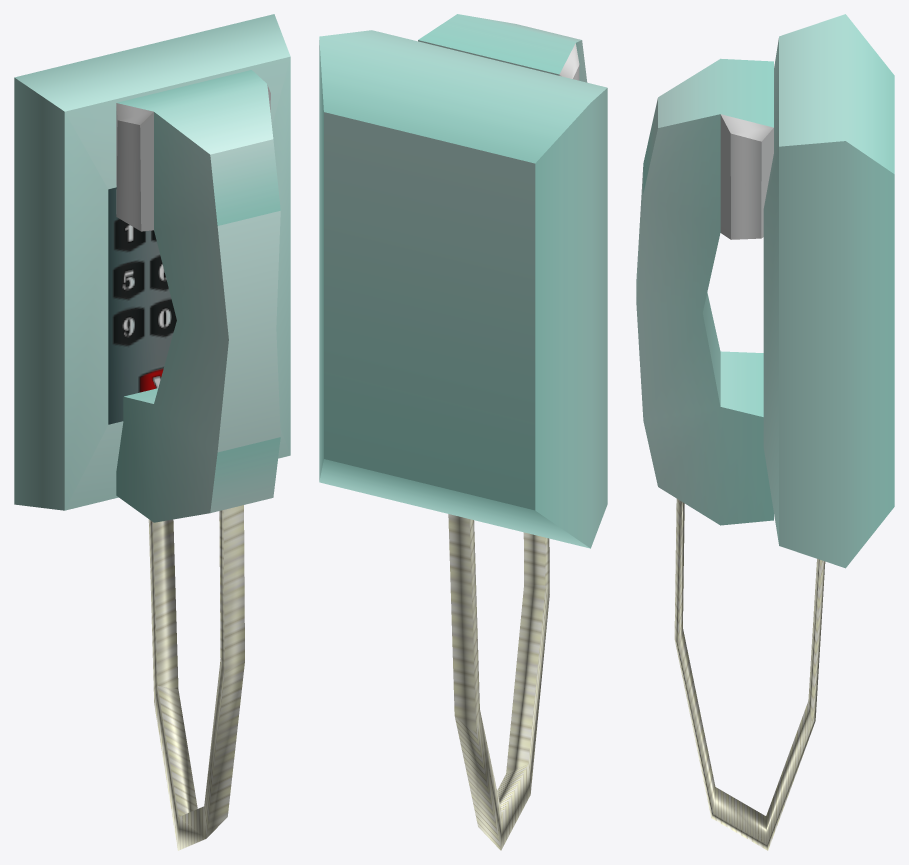
File: Wall_Phone_G.FBX
3 renders of one model, left to right at view 1: azimuth 30°, elevation 25°; view 2: azimuth 150°, elevation 25°; view 3: azimuth 270°, elevation 25°, orthographic. The views are drawn at different scales.
Visible parts, largest first — view 1: Wall_Phone; view 2: Wall_Phone; view 3: Wall_Phone.
Boxes of the visible parts, box(x1,y1,x2,y2) form: Wall_Phone: box(14, 14, 290, 850); Wall_Phone: box(319, 14, 607, 850); Wall_Phone: box(636, 14, 894, 850).
Size of the model in its own units: 57.35 by 163 by 49.28.
